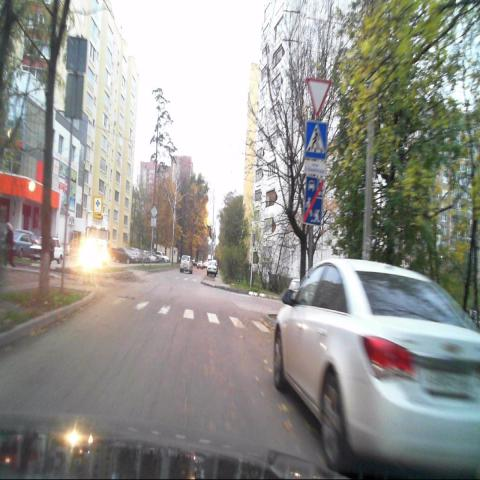5_22: (304, 180, 322, 226)
